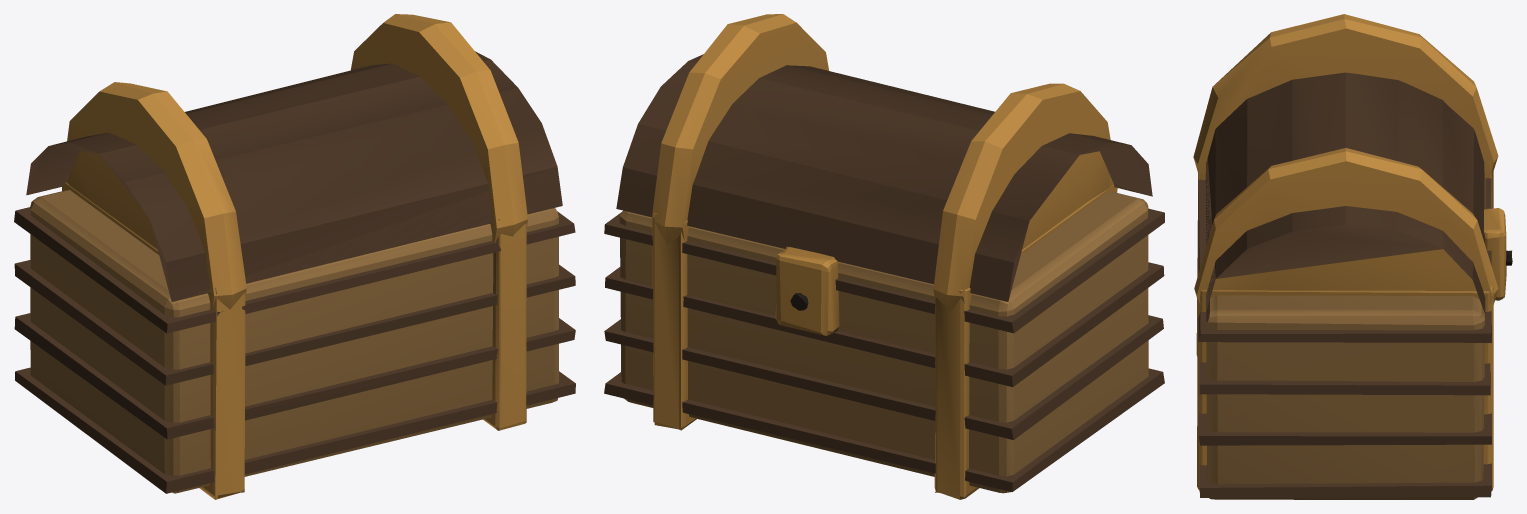
The model's file is find_chest.glb.
3 renders of one model, left to right at view 1: azimuth 30°, elevation 25°; view 2: azimuth 150°, elevation 25°; view 3: azimuth 270°, elevation 25°, orthographic. The views are drawn at different scales.
Parts seen in each view (by area): view 1: Chest; view 2: Chest; view 3: Chest.
Part boxes in pixels (left/top/right/bottom): Chest: left=14, top=14, right=575, bottom=499; Chest: left=604, top=14, right=1164, bottom=499; Chest: left=1193, top=14, right=1512, bottom=499.
Size of the model in its own units: 0.5226 by 0.4251 by 0.367.
